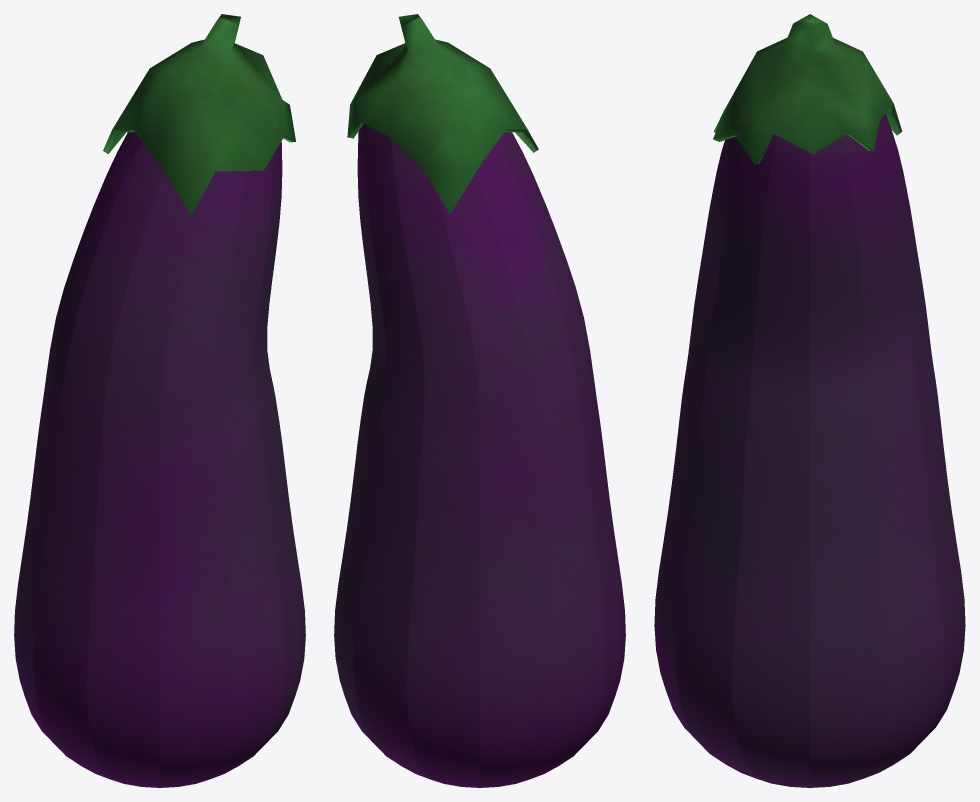
Rendered from Talong.glb.
3 renders of one model, left to right at view 1: azimuth 30°, elevation 25°; view 2: azimuth 150°, elevation 25°; view 3: azimuth 270°, elevation 25°, orthographic. The views are drawn at different scales.
Visible parts, largest first — view 1: Talong; view 2: Talong; view 3: Talong.
Boxes of the visible parts, left/top/right/bottom form: Talong: left=14, top=14, right=305, bottom=787; Talong: left=334, top=14, right=625, bottom=787; Talong: left=654, top=14, right=965, bottom=787.
Bounding box in the file's own units: 1.04 × 2.92 × 1.04.
Materials: 1 (1 with a texture image).
